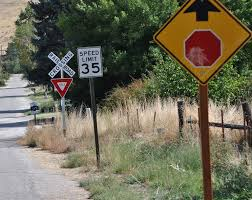speedLimit35: (78, 43, 104, 79)
stopAhead: (152, 2, 251, 85)
yield: (51, 77, 73, 100)
